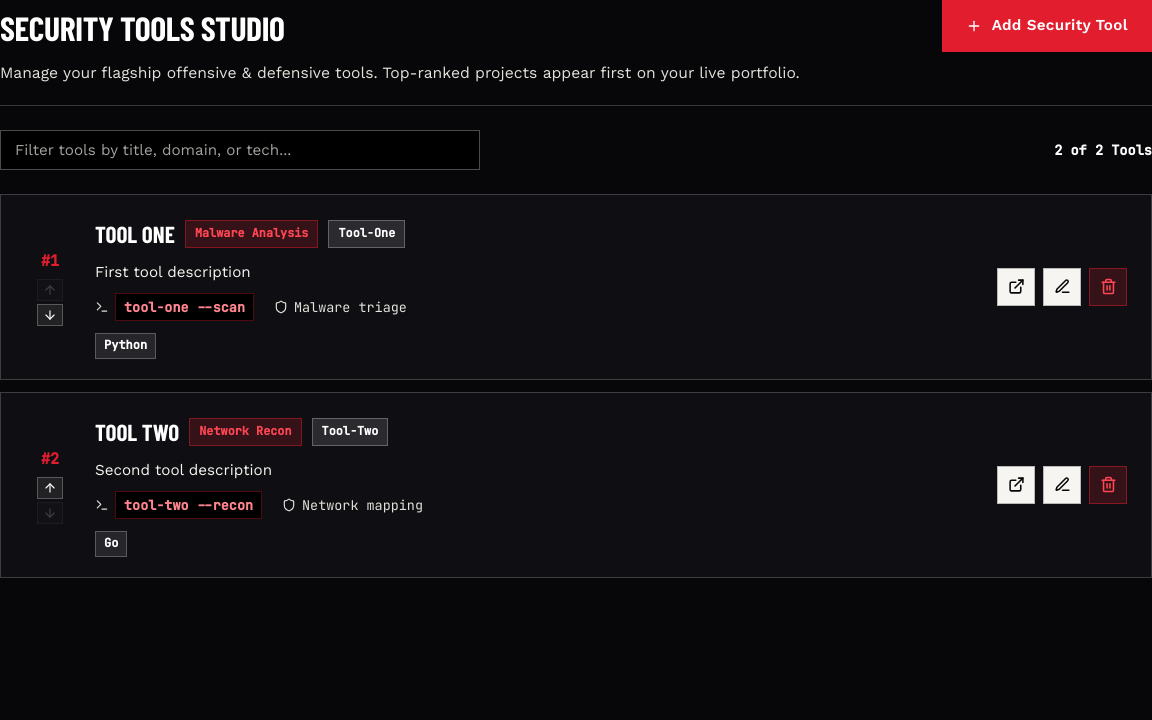
Test case: ProjectStudio component › opens modal to add new project and applies preset
Click the button "Add Security Tool".
click(1047, 26)  # box x1=942 y1=0 x2=1151 y2=52
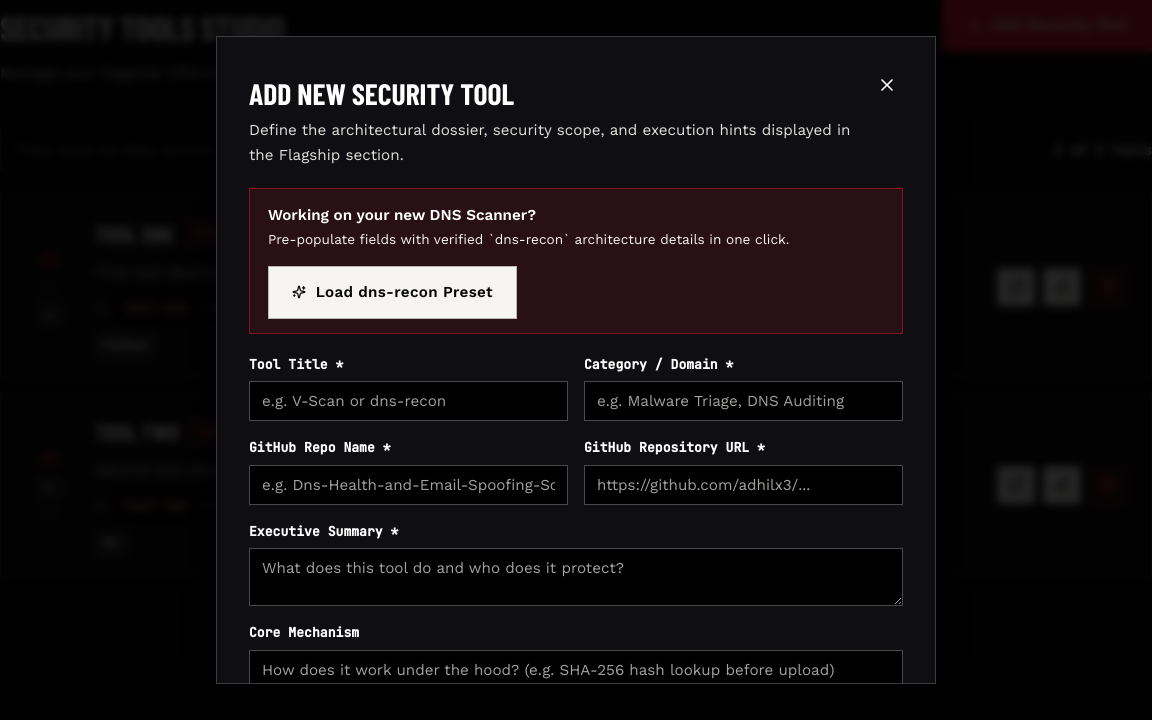
Check: the heading "Add New Security Tool" is shown, box x1=249 y1=75 x2=514 y2=111
Click the button "Load dns-recon Preset".
click(392, 292)  # box x1=268 y1=266 x2=517 y2=318
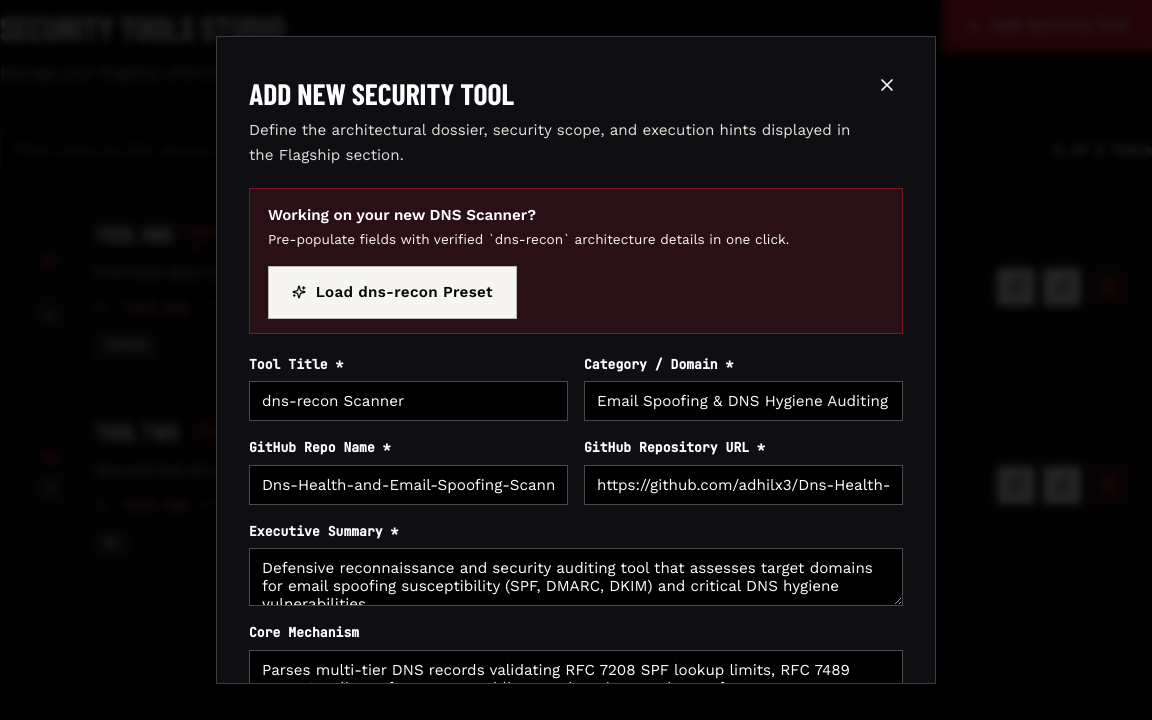
Check: the field showing "dns-recon Scanner" is shown, box x1=249 y1=381 x2=568 y2=421
